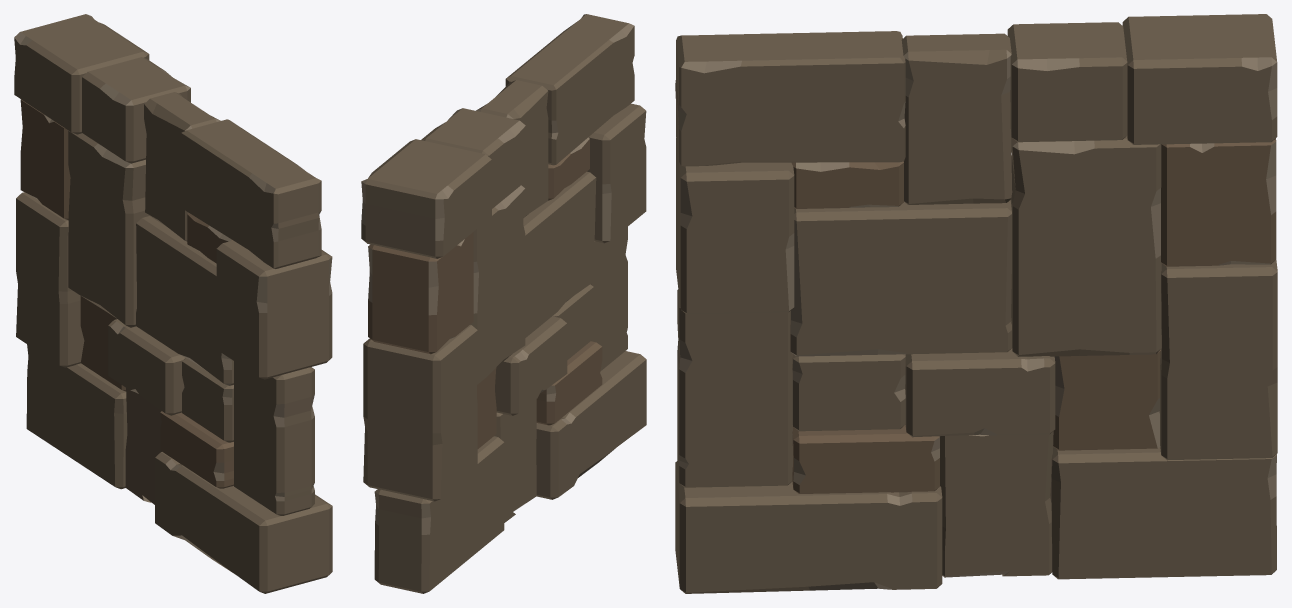
Rendered from chamber_wall_east_7_lev3.glb.
3 views of the same model, side by side, from view 1: azimuth 30°, elevation 25°; view 2: azimuth 150°, elevation 25°; view 3: azimuth 270°, elevation 25° (orthographic). The views are drawn at different scales.
Visible parts, largest first — view 1: chamber_wall_east_7_lev3; view 2: chamber_wall_east_7_lev3; view 3: chamber_wall_east_7_lev3.
Boxes of the visible parts, box(x1,y1,x2,y2) form: chamber_wall_east_7_lev3: box(14, 14, 332, 593); chamber_wall_east_7_lev3: box(361, 14, 646, 593); chamber_wall_east_7_lev3: box(675, 14, 1277, 593).
Size of the model in its own units: 1.5 by 5.97 by 6.2.
